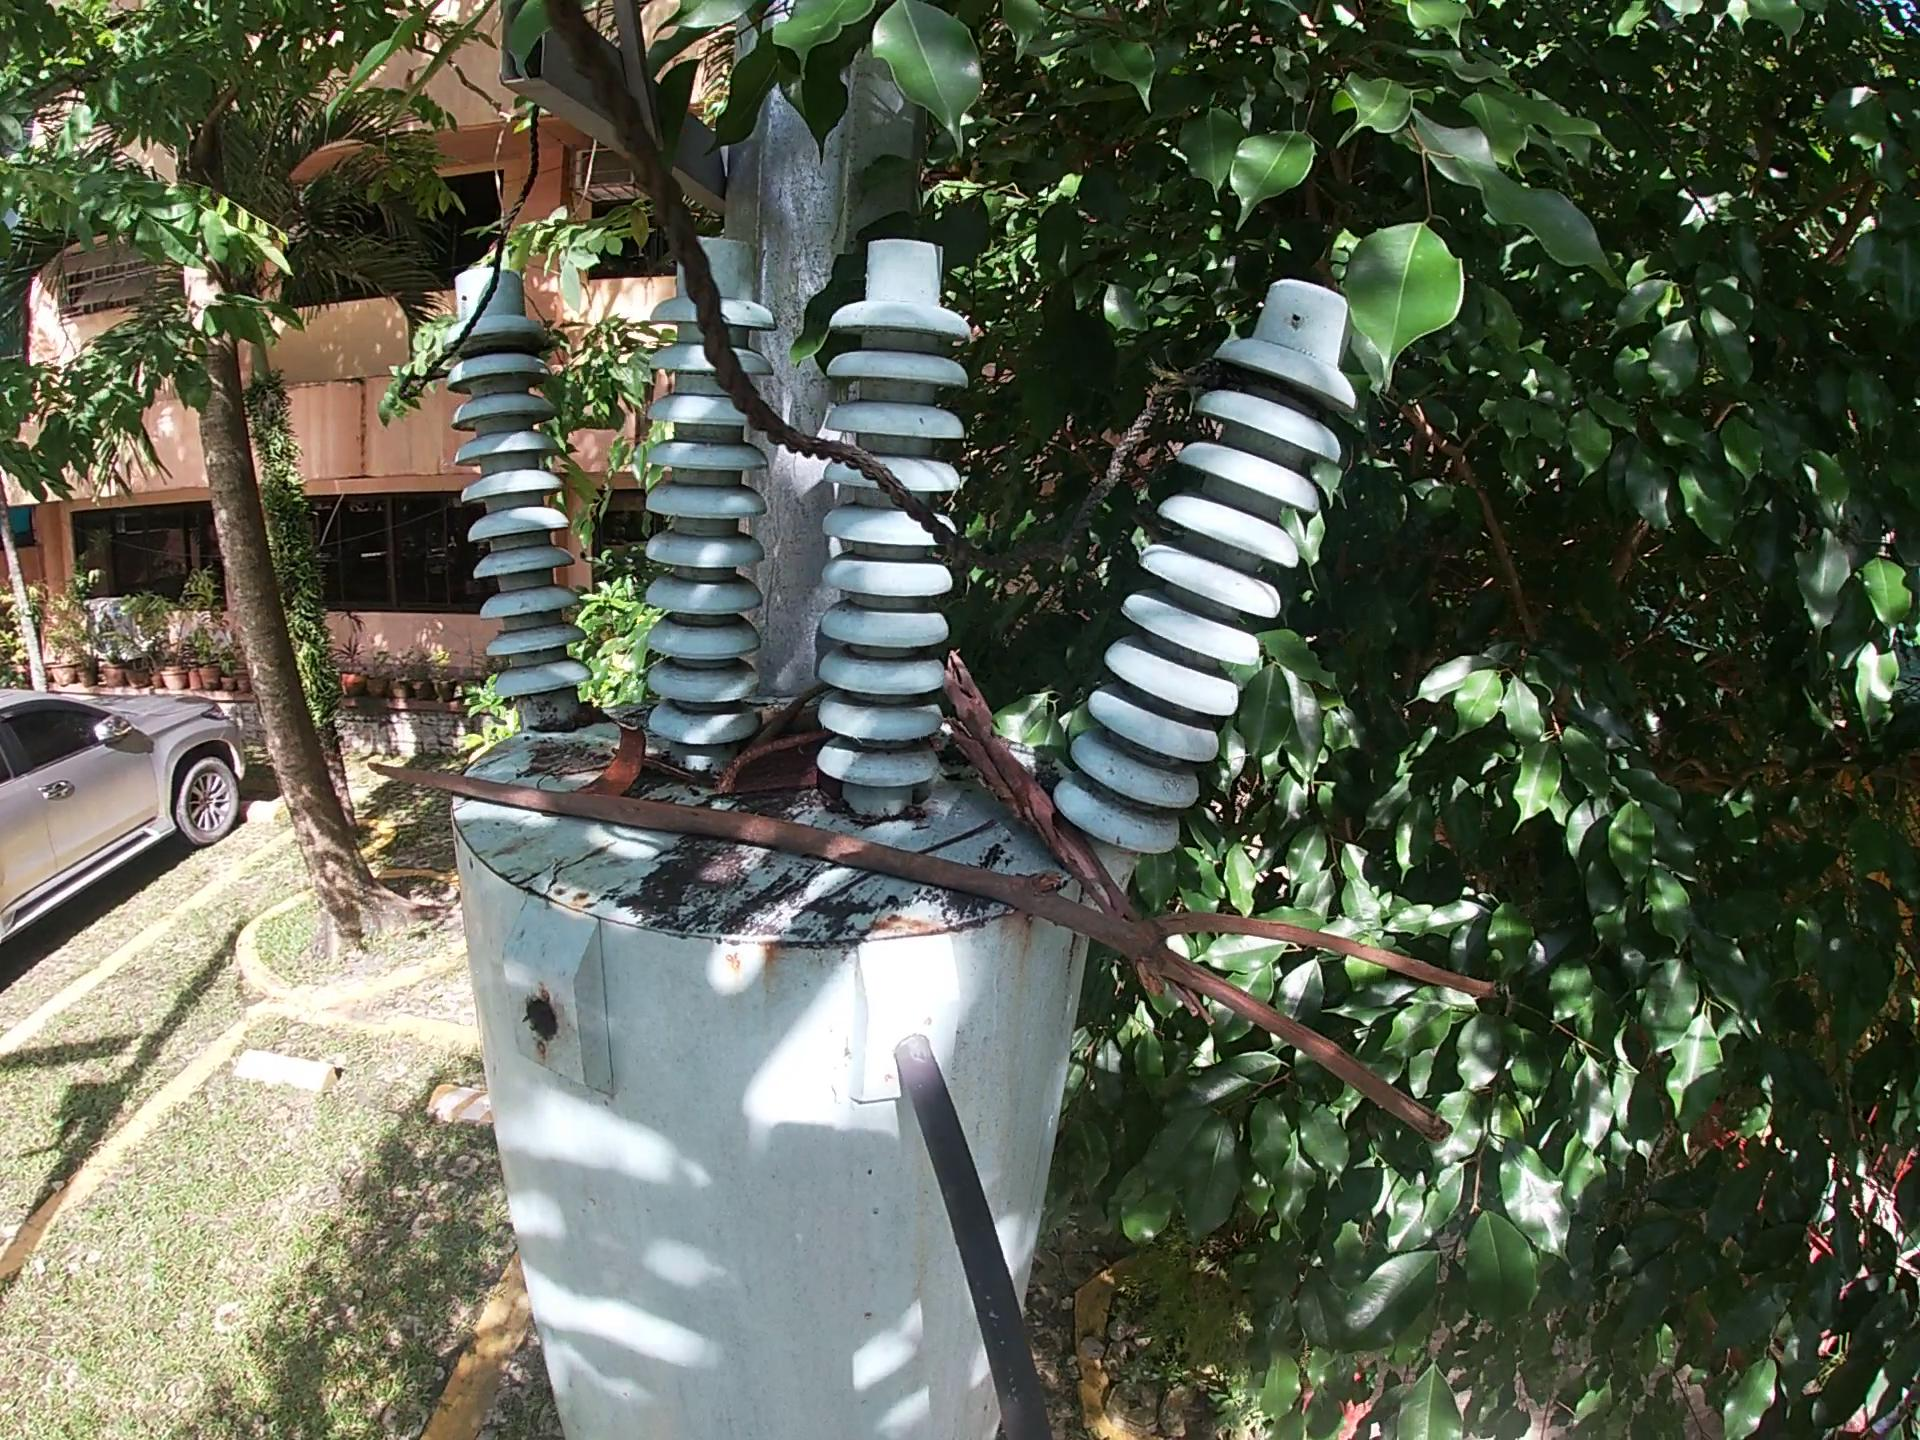mahogany fruit: (715, 732, 838, 796), (567, 720, 658, 799)
tree branch: (355, 752, 1507, 1154), (934, 649, 1219, 1035), (751, 681, 835, 756)
